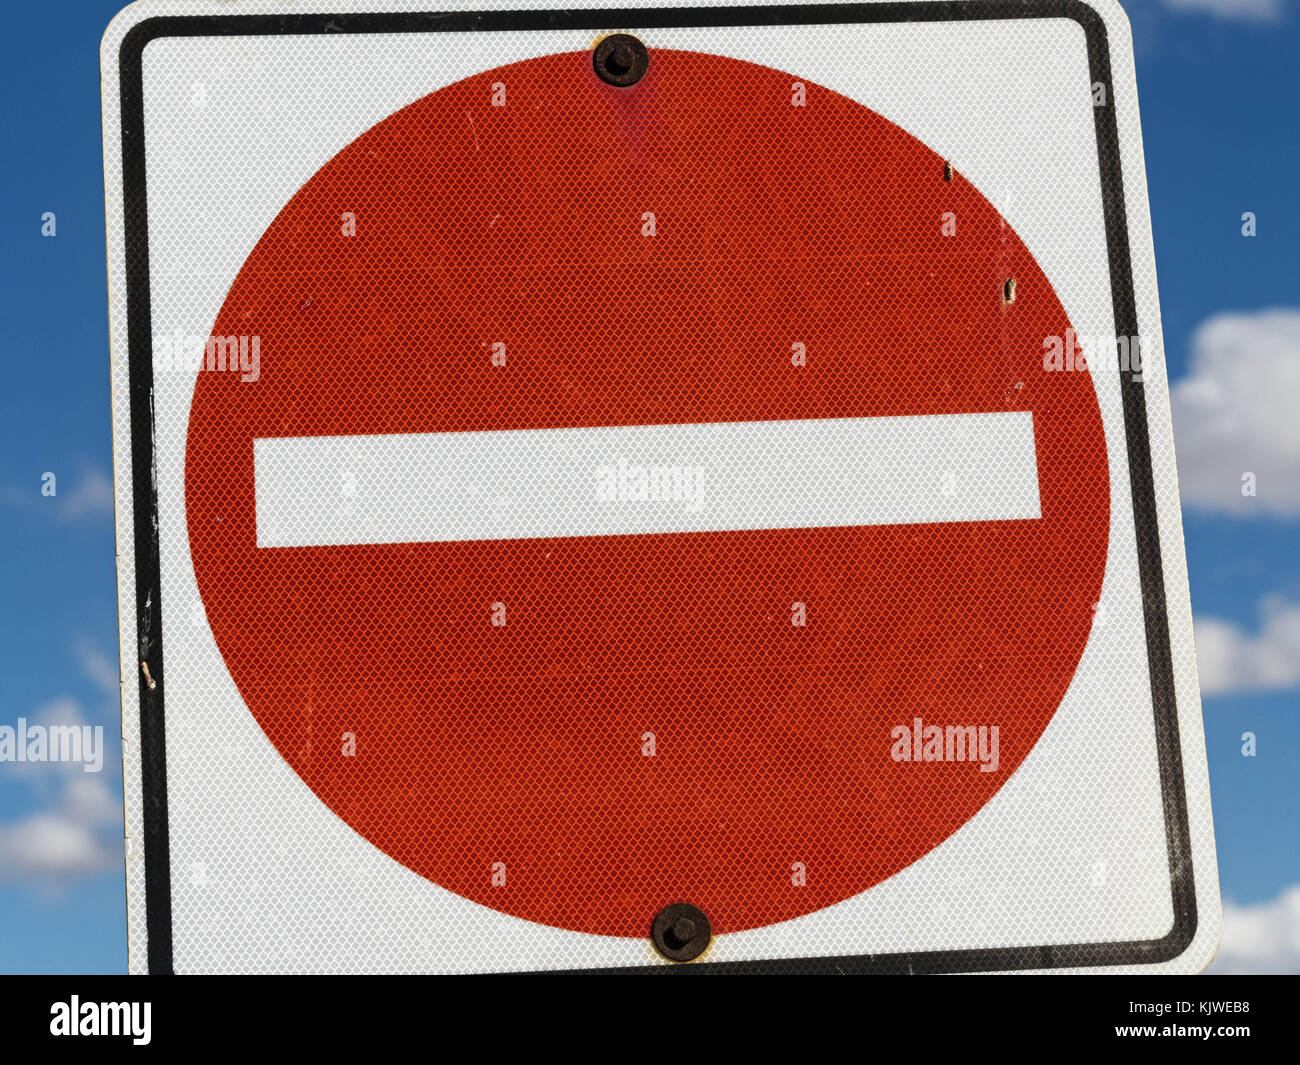sign_noentry: (98, 0, 1228, 970)
